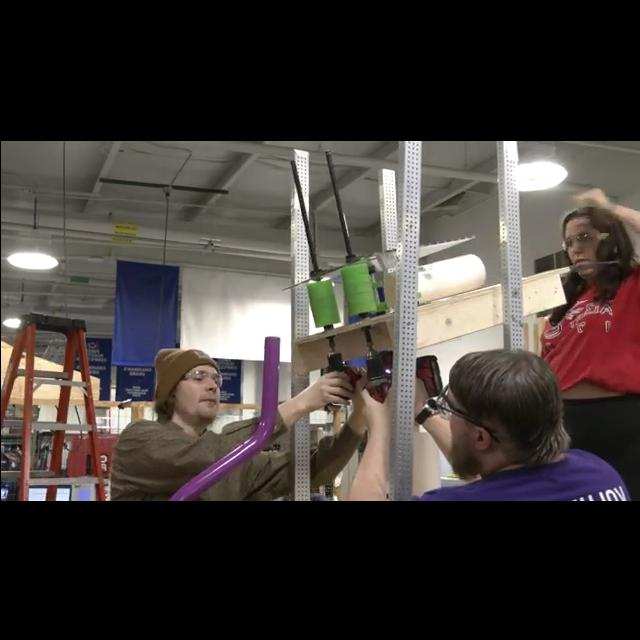CORAL: (416, 254, 484, 302)
